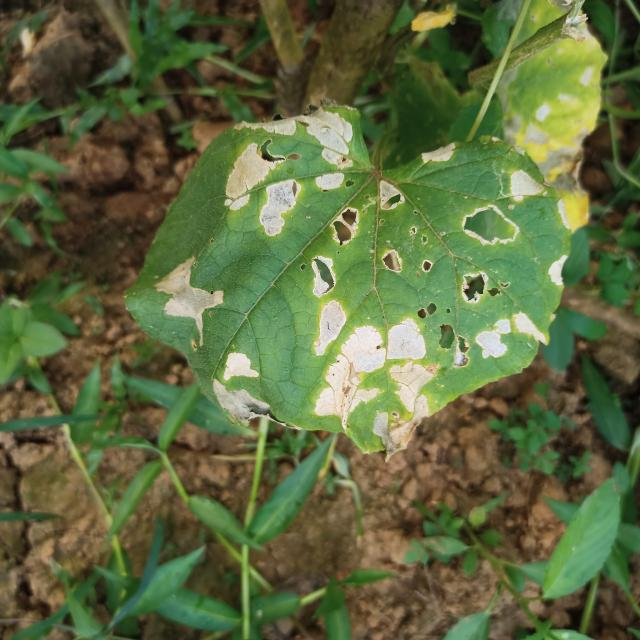disease_cucumber: (151, 112, 532, 433)
